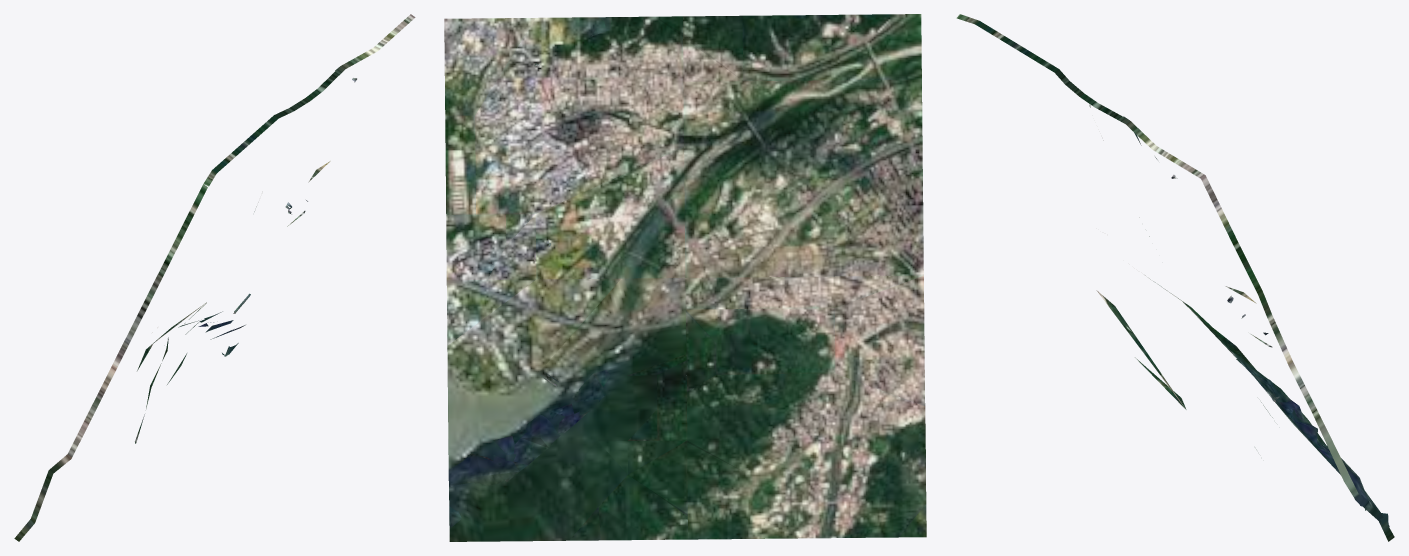
3 renders of one model, left to right at view 1: azimuth 30°, elevation 25°; view 2: azimuth 150°, elevation 25°; view 3: azimuth 270°, elevation 25°, orthographic. The views are drawn at different scales.
Bounding box in the file's own units: 4905 × 4488 × 4250.
Materials: 1 (1 with a texture image).
